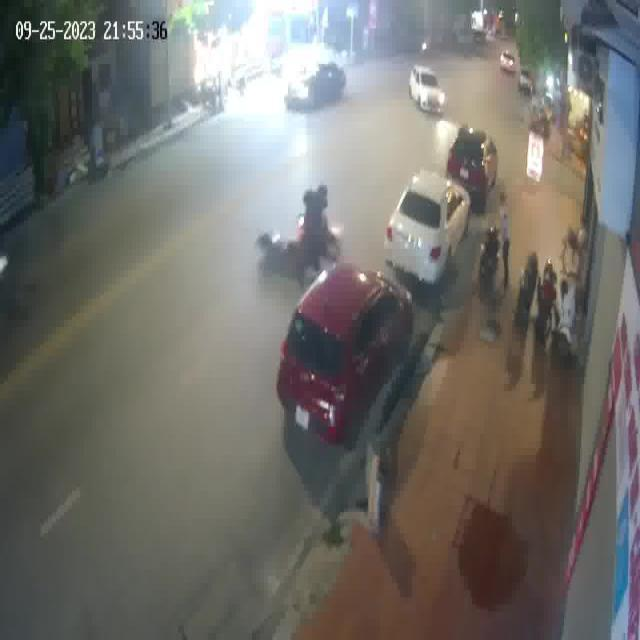multiple_accident: (253, 175, 348, 300)
normal: (270, 49, 363, 117), (394, 50, 457, 120)
